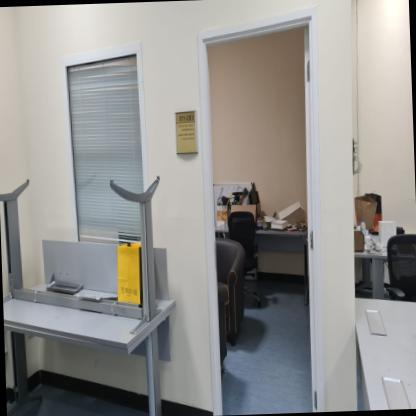open: (192, 0, 337, 416)
